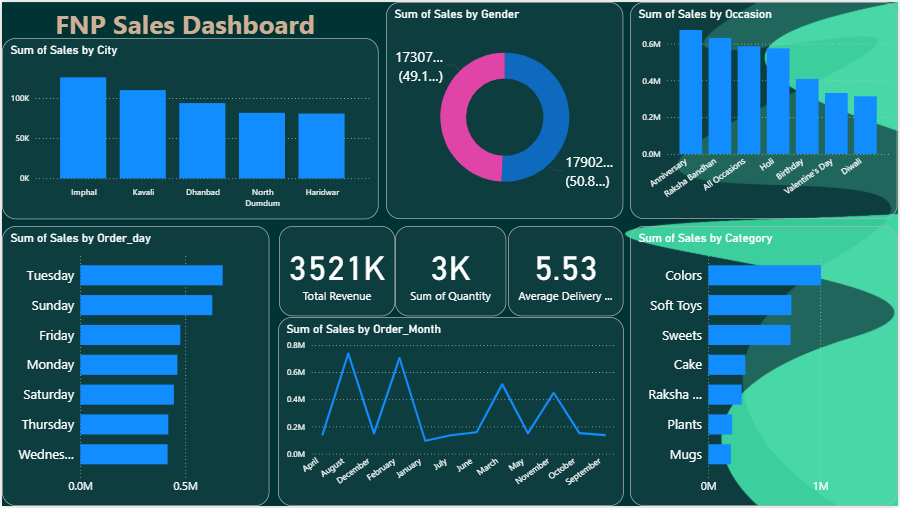

This screenshot's page, from the dashboard's own definition file:
{"tool":"powerbi","page":{"name":"Page 1","canvas":[1280,720],"ordinal":0},"visuals":[{"type":"card","fields":{"Values":["Sum(orders.Sales)"]},"box":[395.3,320.3,166,129.3],"z":0},{"type":"card","fields":{"Values":["Sum(orders.Quantity)"]},"box":[561.3,320.3,158.7,129.3],"z":1000},{"type":"card","fields":{"Values":["Avg(orders.Delivery_Days)"]},"box":[722.9,320.3,164.6,129.3],"z":2000},{"type":"textbox","box":[72,0,392.3,70.5],"z":3000},{"type":"columnChart","fields":{"Y":["Sum(orders.Sales)"],"Category":["products.Occasion"]},"box":[897.8,0,382,310],"z":4000},{"type":"donutChart","fields":{"Y":["Sum(orders.Sales)"],"Category":["customers.Gender"]},"box":[548.1,0,339.4,310],"z":5000},{"type":"clusteredBarChart","fields":{"Category":["products.Category"],"Y":["Sum(orders.Sales)"]},"box":[897.8,320.3,382,399.7],"z":6000},{"type":"lineChart","fields":{"Y":["Sum(orders.Sales)"],"Category":["orders.Order_Month"]},"box":[393.8,449.6,493.7,270.4],"z":7000},{"type":"clusteredBarChart","fields":{"Y":["Sum(orders.Sales)"],"Category":["orders.Order_day"]},"box":[0,320.3,382,399.7],"z":8000},{"type":"columnChart","fields":{"Category":["customers.City"],"Y":["Sum(orders.Sales)"]},"box":[0,51.4,537.8,258.6],"z":9000}]}

Visuals, with their boxes in screenshot pixels (x1, y1, x2, y2), scaled from the page's 1280x720 canvas onto the 900x508 screenshot:
card - Sum(orders.Sales): rect(278, 226, 395, 317)
card - Sum(orders.Quantity): rect(395, 226, 506, 317)
card - Avg(orders.Delivery_Days): rect(508, 226, 624, 317)
textbox: rect(51, 0, 326, 50)
columnChart - Sum(orders.Sales) x products.Occasion: rect(631, 0, 899, 219)
donutChart - Sum(orders.Sales) x customers.Gender: rect(385, 0, 624, 219)
clusteredBarChart - products.Category x Sum(orders.Sales): rect(631, 226, 899, 507)
lineChart - Sum(orders.Sales) x orders.Order_Month: rect(277, 317, 624, 507)
clusteredBarChart - Sum(orders.Sales) x orders.Order_day: rect(0, 226, 269, 507)
columnChart - customers.City x Sum(orders.Sales): rect(0, 36, 378, 219)
